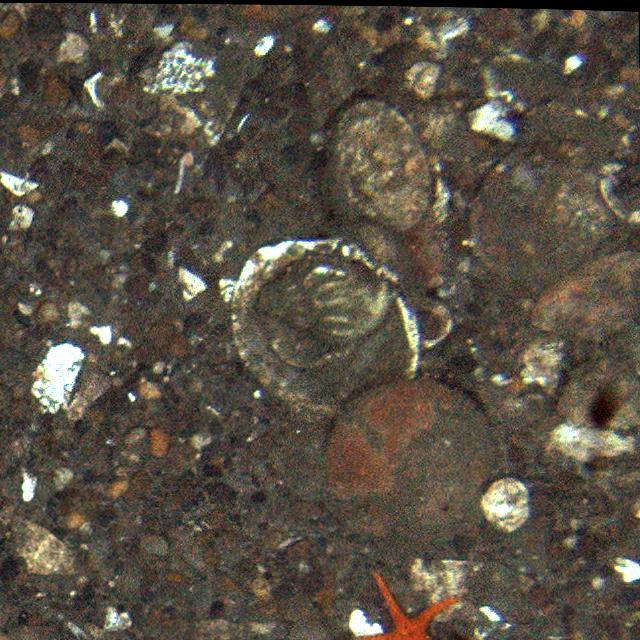whelk: (257, 260, 390, 340)
